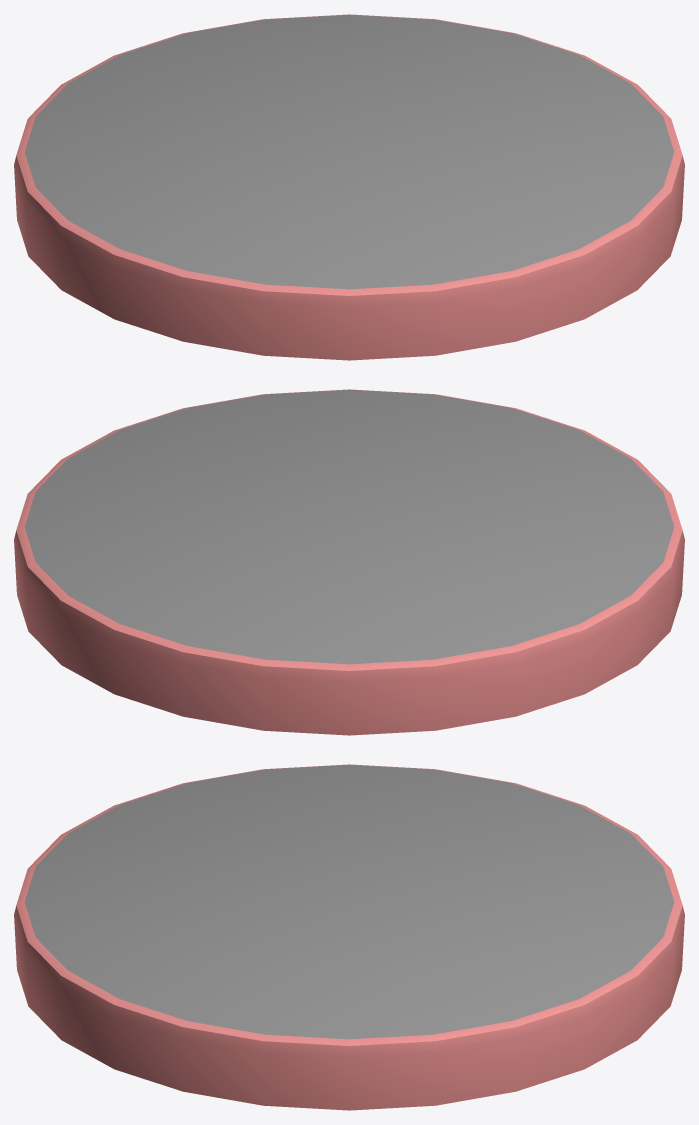
The model's file is Table_TopRound.fbx.
The picture shows the model from 3 angles, top to bottom: view 1: azimuth 30°, elevation 25°; view 2: azimuth 150°, elevation 25°; view 3: azimuth 270°, elevation 25°; orthographic projection.
Visible parts, largest first — view 1: SM_Tables01_Top_Round; view 2: SM_Tables01_Top_Round; view 3: SM_Tables01_Top_Round.
Part boxes in pixels (x1,y1,x2,y2): SM_Tables01_Top_Round: (14, 14, 684, 360); SM_Tables01_Top_Round: (14, 389, 684, 735); SM_Tables01_Top_Round: (14, 764, 684, 1110).
Size of the model in its own units: 120 by 13.39 by 120.
